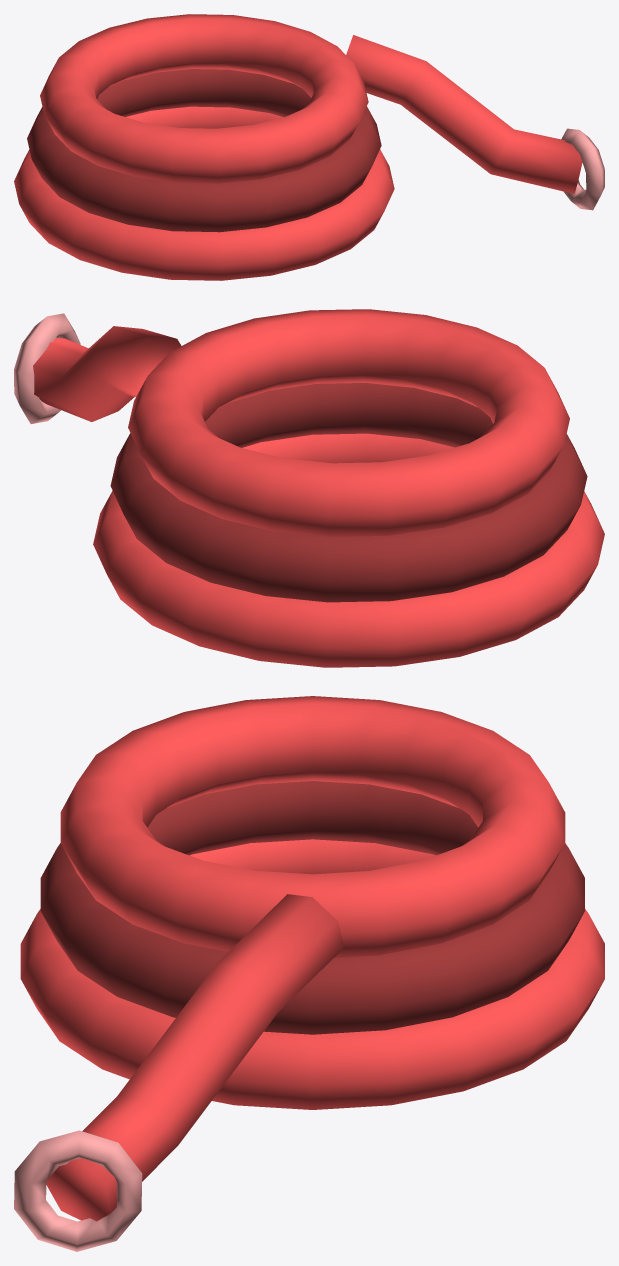
File: Rope_Red.glb
The picture shows the model from 3 angles, top to bottom: view 1: azimuth 30°, elevation 25°; view 2: azimuth 150°, elevation 25°; view 3: azimuth 270°, elevation 25°; orthographic projection. The views are drawn at different scales.
Visible parts, largest first — view 1: Rope_Red_Coil2, Rope_Red_Coil1, Rope_Red_Coil0, Rope_Red_End, Rope_Red_Tie; view 2: Rope_Red_Coil2, Rope_Red_Coil1, Rope_Red_Coil0, Rope_Red_End, Rope_Red_Tie; view 3: Rope_Red_Coil2, Rope_Red_Coil1, Rope_Red_Coil0, Rope_Red_End, Rope_Red_Tie.
Boxes of the visible parts, bbox=[...] form: Rope_Red_Coil2: bbox=[40, 14, 368, 183]; Rope_Red_Coil1: bbox=[27, 69, 381, 232]; Rope_Red_Coil0: bbox=[14, 106, 394, 280]; Rope_Red_End: bbox=[346, 35, 582, 193]; Rope_Red_Tie: bbox=[561, 128, 604, 210]; Rope_Red_Coil2: bbox=[128, 309, 569, 536]; Rope_Red_Coil1: bbox=[110, 383, 587, 602]; Rope_Red_Coil0: bbox=[93, 433, 604, 667]; Rope_Red_End: bbox=[33, 326, 181, 421]; Rope_Red_Tie: bbox=[14, 313, 80, 423]; Rope_Red_Coil2: bbox=[60, 696, 565, 957]; Rope_Red_Coil1: bbox=[40, 781, 584, 1034]; Rope_Red_Coil0: bbox=[20, 839, 604, 1109]; Rope_Red_End: bbox=[46, 894, 344, 1221]; Rope_Red_Tie: bbox=[14, 1130, 142, 1251].
Size of the model in its own units: 0.2549 by 0.0792 by 0.1762.
